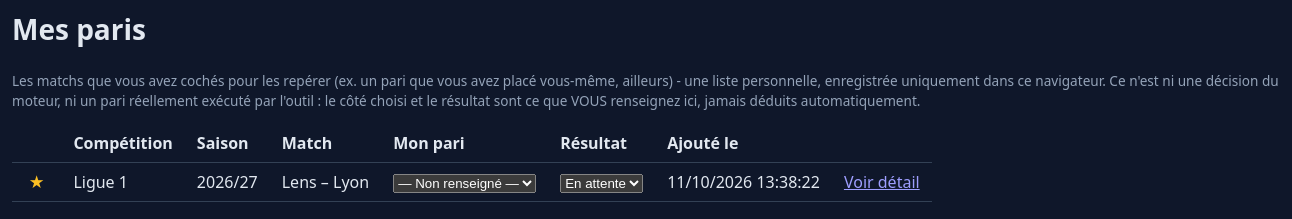
Test: StarredMatches › retire un match de la liste au clic sur son étoile
Click the button named "Retirer Lens – Lyon de mes paris". click: (37, 183)
box: 24,172 -> 49,193
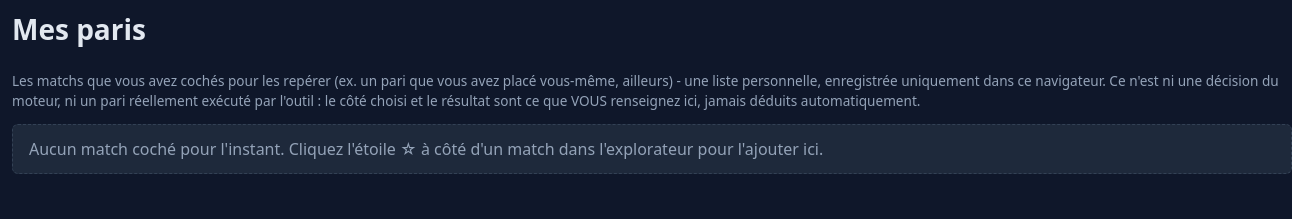
expect the text "Aucun match coché pour l'instant" is shown: met, box 29,138 -> 823,160
